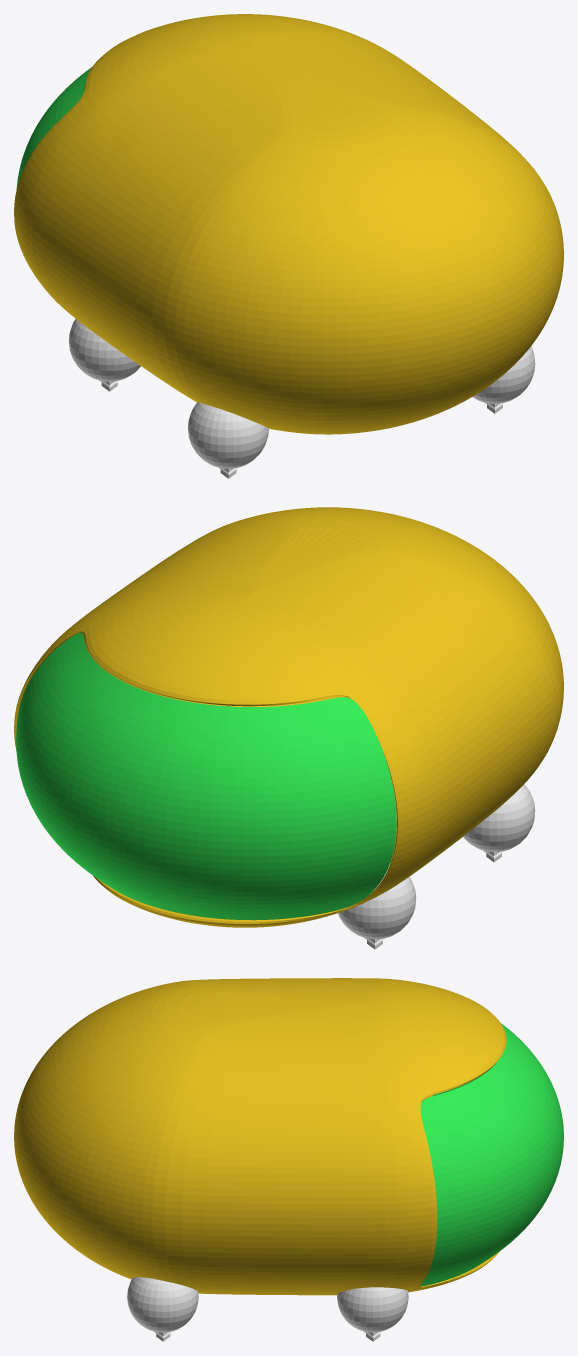
File: Smilik.fbx
3 renders of one model, top to bottom at view 1: azimuth 30°, elevation 25°; view 2: azimuth 150°, elevation 25°; view 3: azimuth 270°, elevation 25°, orthographic. The views are drawn at different scales.
Visible parts, largest first — view 1: Body, Turbine1.002, Turbine1.001, Turbine1.003, Display; view 2: Body, Display, Turbine1.001, Turbine1.002; view 3: Body, Display, Turbine1.003, Turbine1.
Boxes of the visible parts, x1=… form: Body: x1=14, y1=14, x2=563, y2=434; Turbine1.002: x1=188, y1=402, x2=268, y2=478; Turbine1.001: x1=69, y1=319, x2=140, y2=391; Turbine1.003: x1=473, y1=346, x2=535, y2=413; Display: x1=16, y1=67, x2=91, y2=188; Body: x1=14, y1=507, x2=563, y2=927; Display: x1=16, y1=632, x2=396, y2=920; Turbine1.001: x1=338, y1=863, x2=416, y2=949; Turbine1.002: x1=463, y1=784, x2=535, y2=862; Body: x1=14, y1=978, x2=506, y2=1295; Display: x1=420, y1=1023, x2=563, y2=1286; Turbine1.003: x1=127, y1=1277, x2=198, y2=1341; Turbine1: x1=337, y1=1287, x2=408, y2=1341.
Size of the model in its own units: 197 by 145 by 261.
